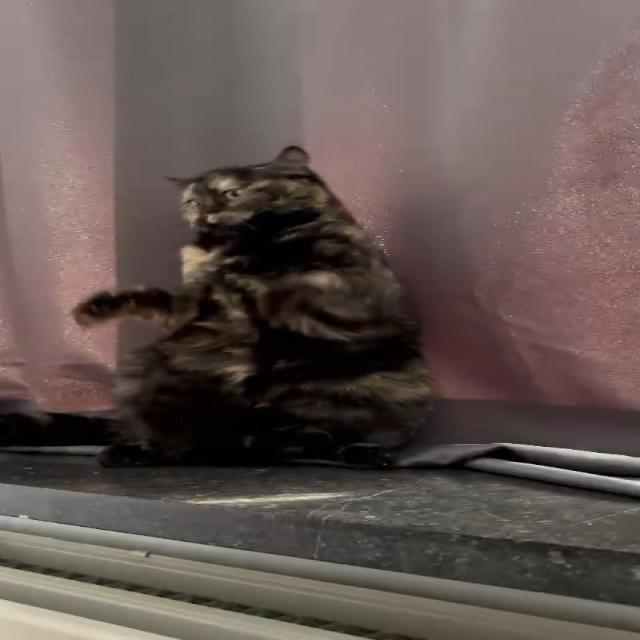authorized: (70, 144, 438, 469)
